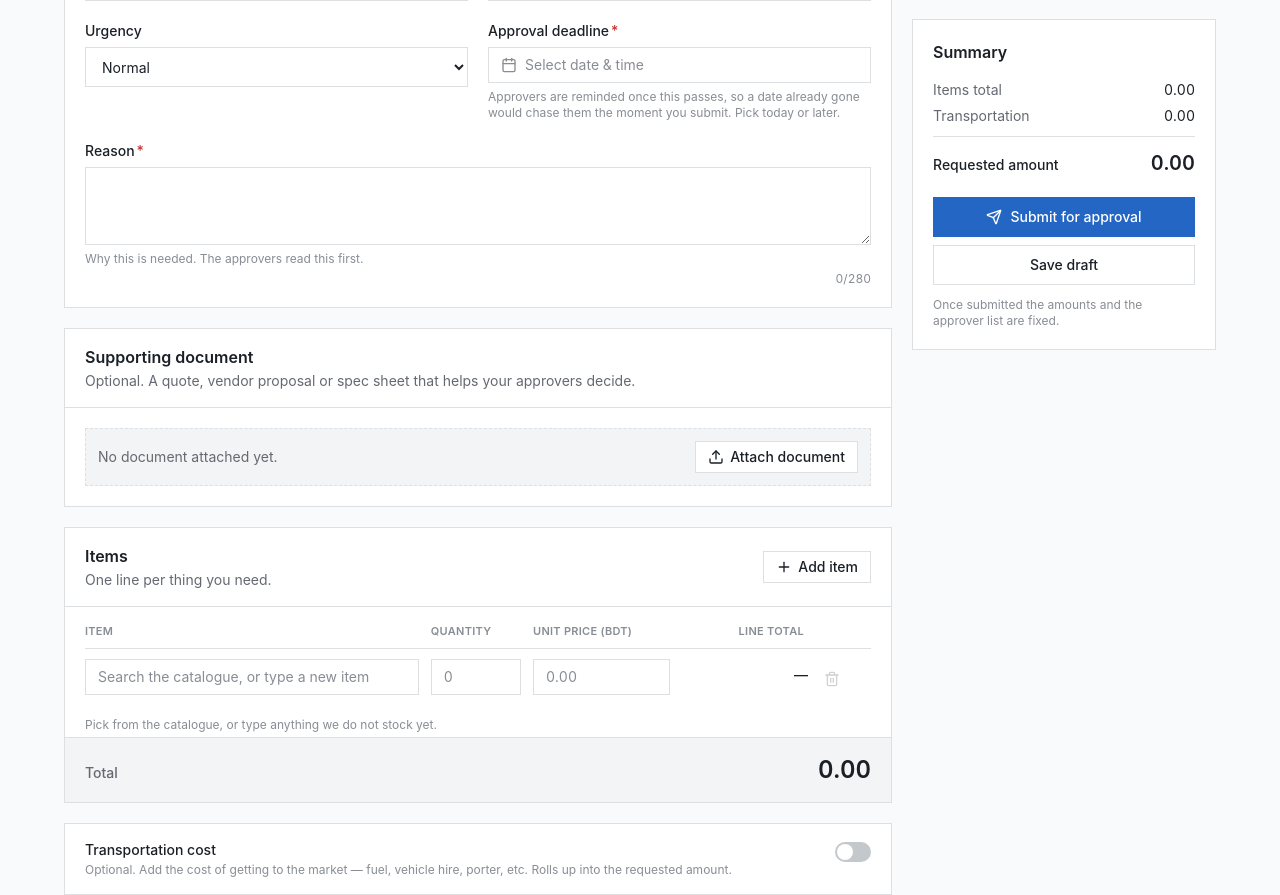
RequisitionFormPage › updates the items Total as the user types quantity and unit price
(page scrolled)
Expected: the text "0.00" below "Unit price (BDT)" is shown, [818,754,871,784]
Type "test widget" into the dropdown named "Item 1" at (252, 676), box [85,658,419,694]
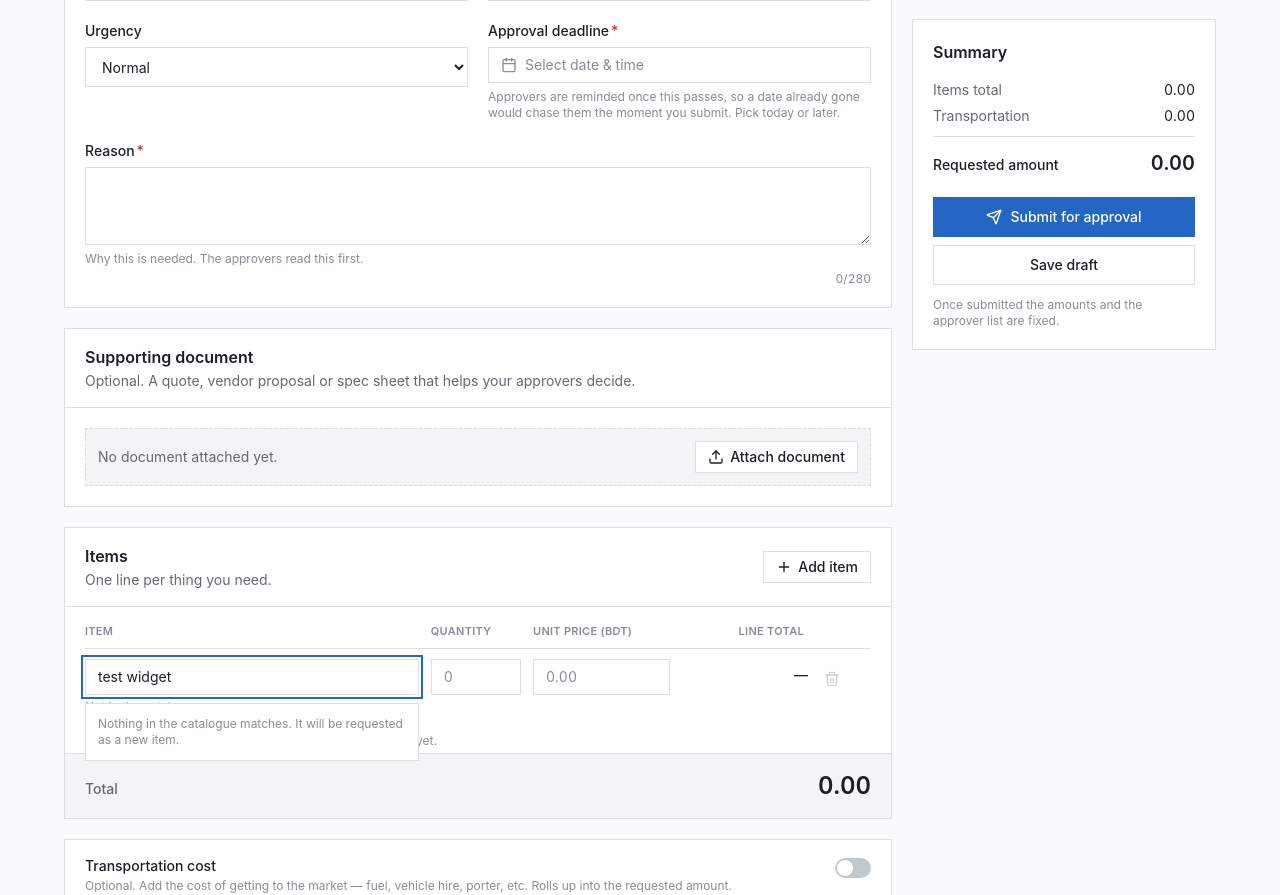
Type "4" into the number field named "Quantity 1" at (476, 676), box [431,658,521,694]
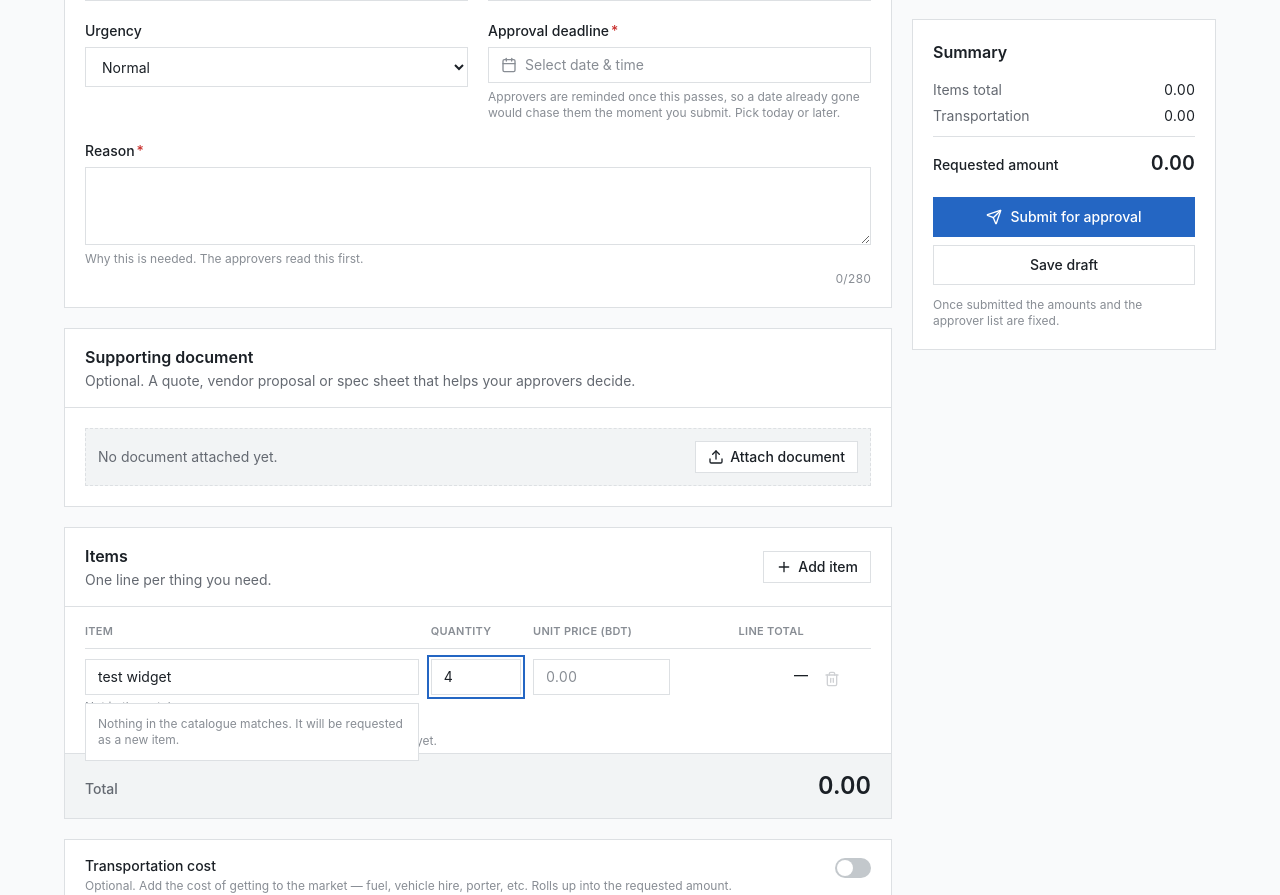
Type "399.99" into the number field named "Unit price (BDT) 1" at (602, 676), box [533,658,670,694]
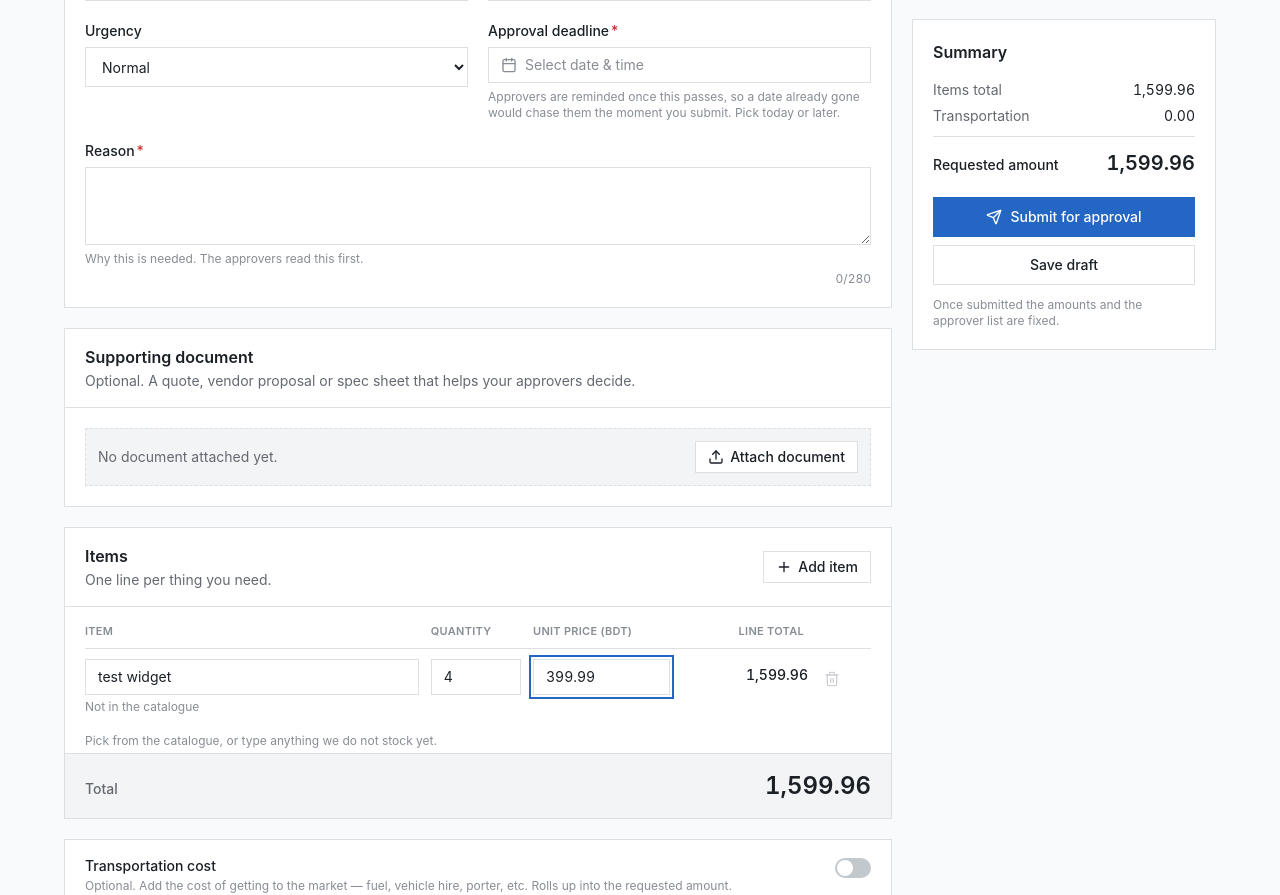
Result: the text "1,599.96" below "Unit price (BDT)" is shown at [765,770,871,800]
